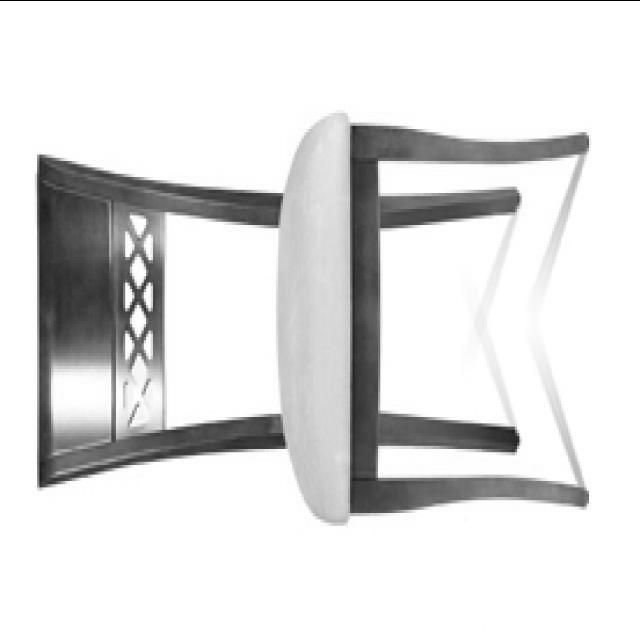chair: (36, 114, 590, 528)
